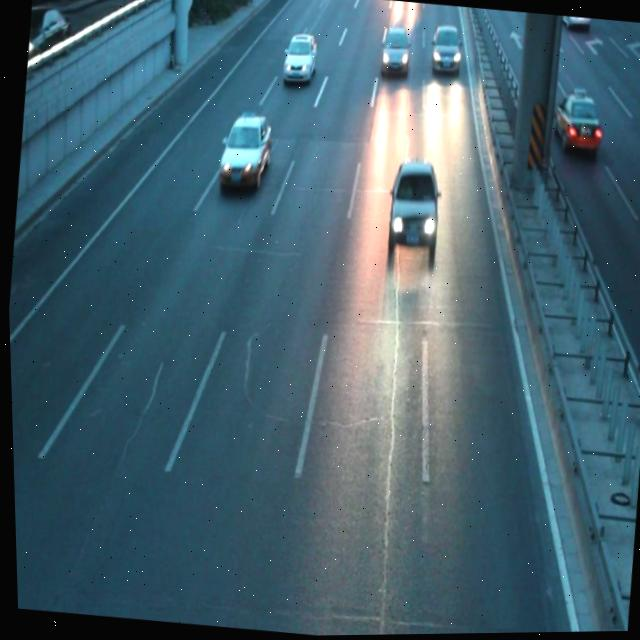car: (380, 159, 444, 257), (215, 109, 274, 193), (280, 30, 318, 85), (426, 25, 461, 76), (377, 27, 411, 77)
